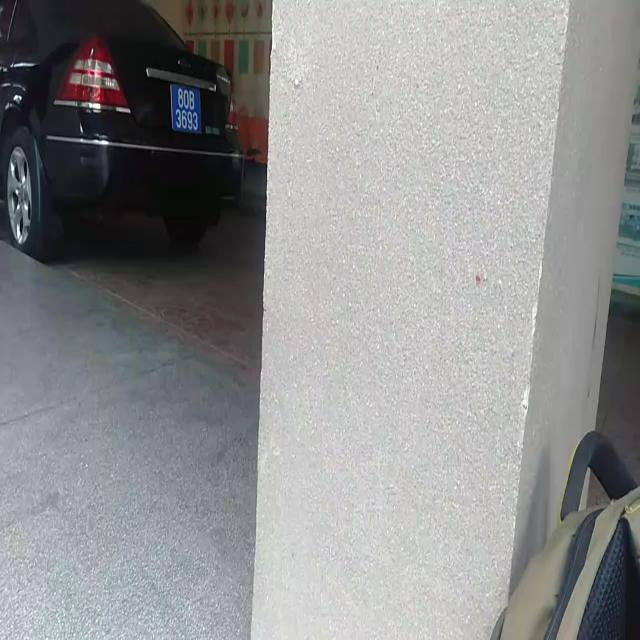bien_xanh: (168, 80, 205, 142)
